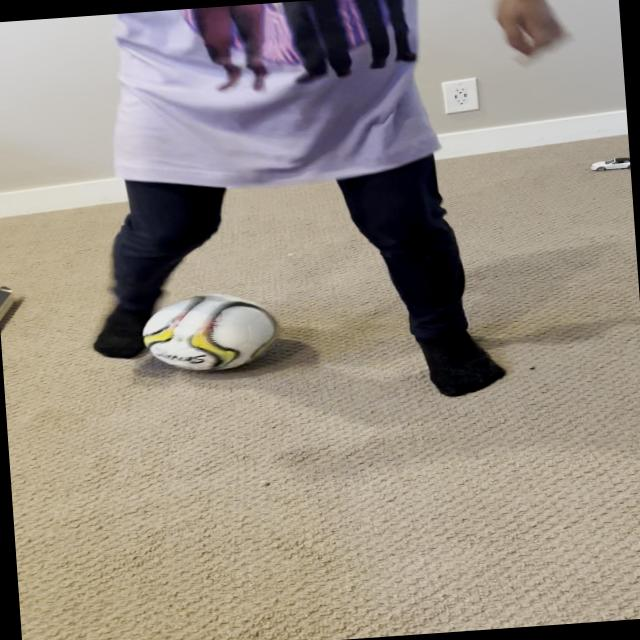Soccer Ball: (138, 288, 281, 375)
